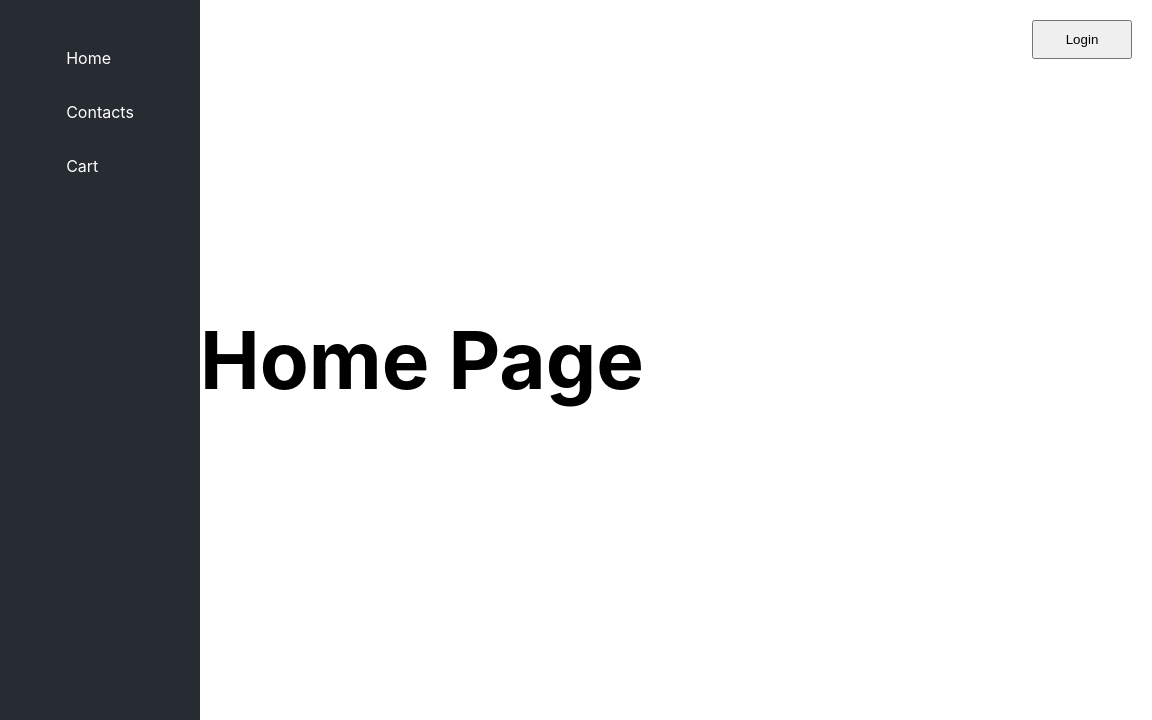
App › should renders the Contacts Page when selecting Contacts in the menu
Click the link "Contacts": (100,112) [66,102,134,122]
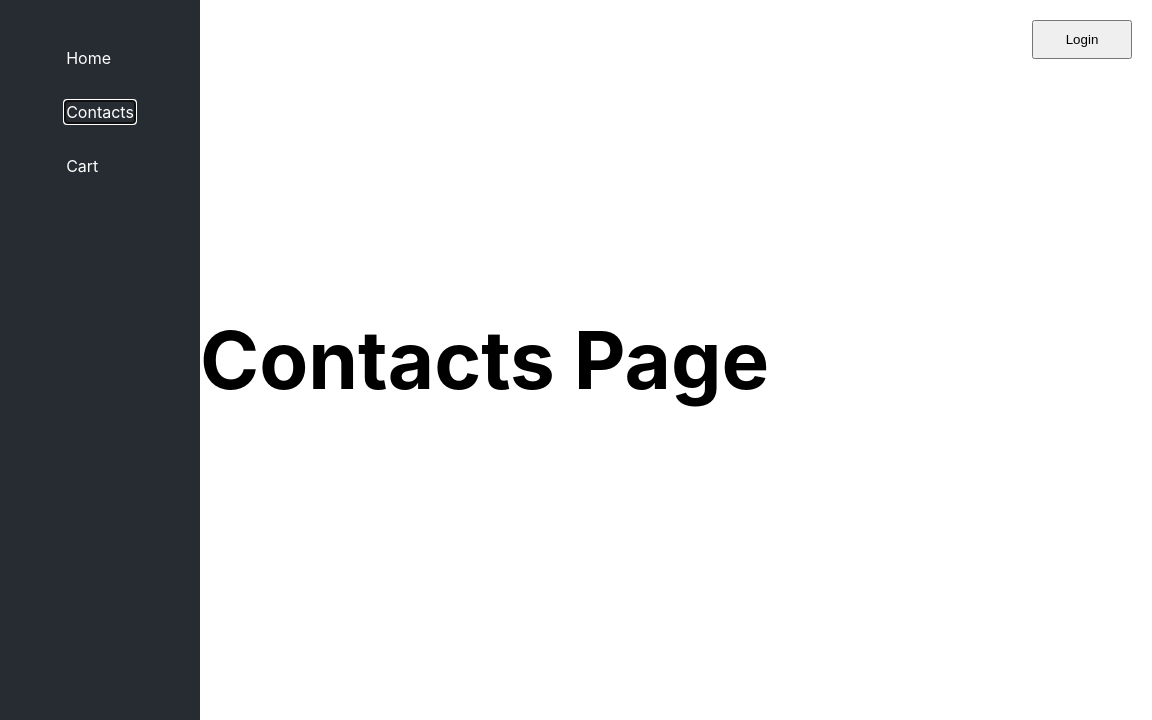
expect the heading "Contacts Page" is shown: met, box [200,311,769,408]
